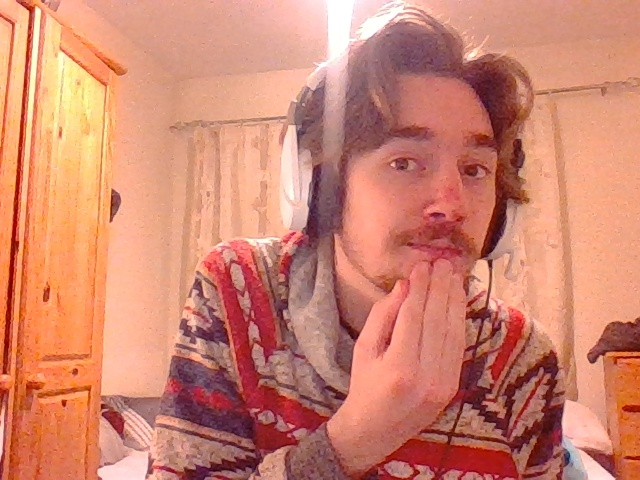thanks: (347, 258, 466, 442)
